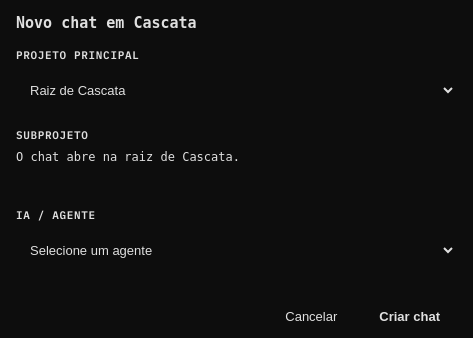
Scenario: NewChatSheet — level 2 "Subprojeto" (cascade slot) › state C: eligible primary with no subprojects shows a hint, no <select>
The image size is (473, 338).
Select "portal_light" in the dropdown named "Projeto principal": (236, 90) [16,68,456,112]
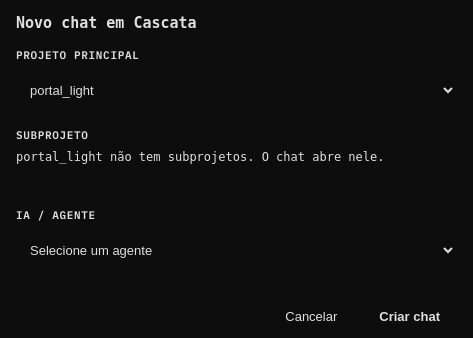
Now the text "portal_light não tem subprojetos. O chat abre nele." is shown, box [16,150,384,164]
